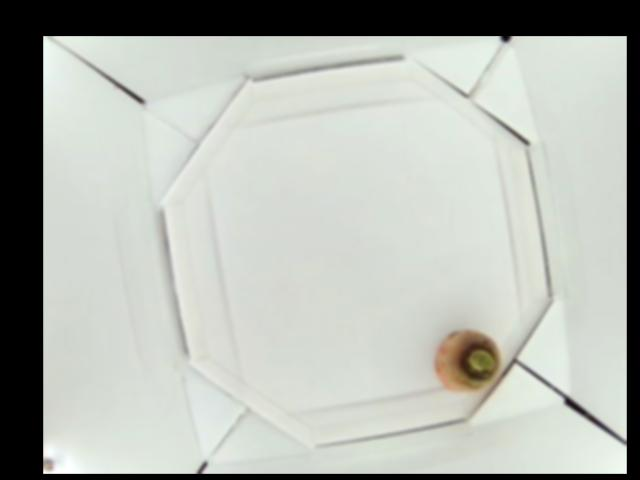Carrot: (435, 328, 500, 391)
